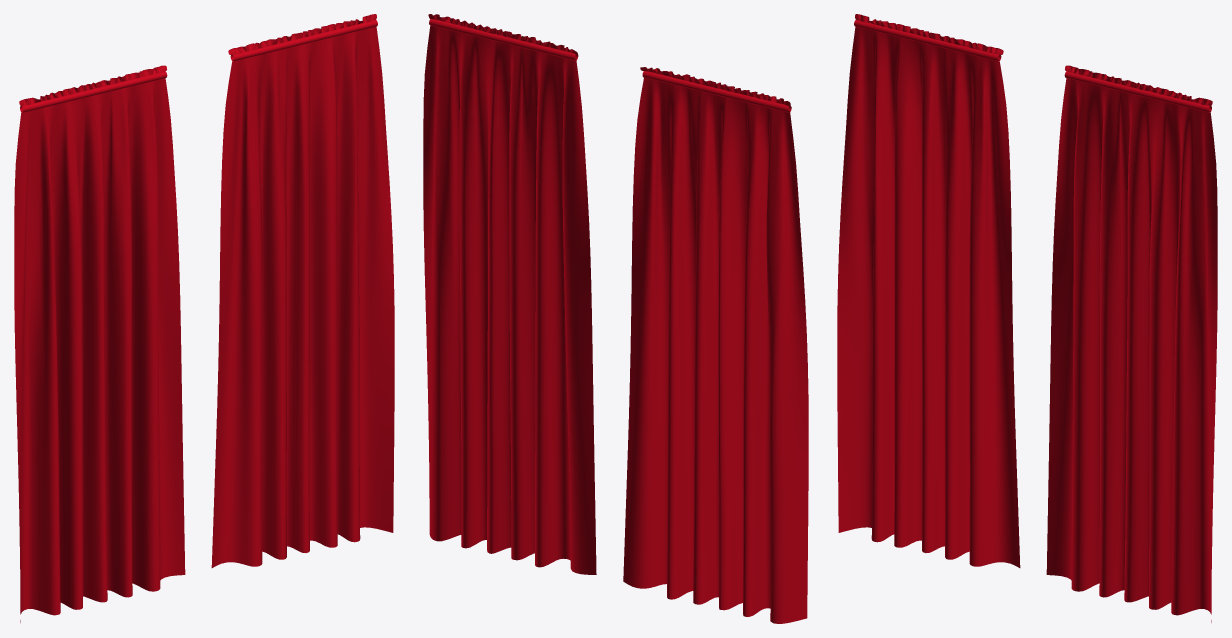
File: uploads_files_2342895_SM_curtain_60.5.fbx
3 views of the same model, side by side, from view 1: azimuth 30°, elevation 25°; view 2: azimuth 150°, elevation 25°; view 3: azimuth 330°, elevation 25° (orthographic).
Parts seen in each view (by area): view 1: SM_curtain_60.5; view 2: SM_curtain_60.5; view 3: SM_curtain_60.5.
Part boxes in pixels (x1,y1,x2,y2): SM_curtain_60.5: [14, 14, 394, 622]; SM_curtain_60.5: [423, 14, 808, 623]; SM_curtain_60.5: [837, 14, 1217, 622].
Size of the model in its own units: 1.95 by 2.53 by 0.1378.
